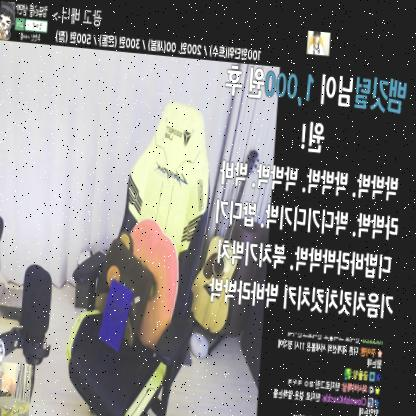donation: (211, 17, 410, 311)
